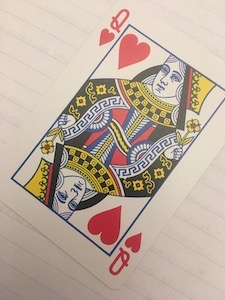QueenOfHearts: (1, 3, 224, 290)
